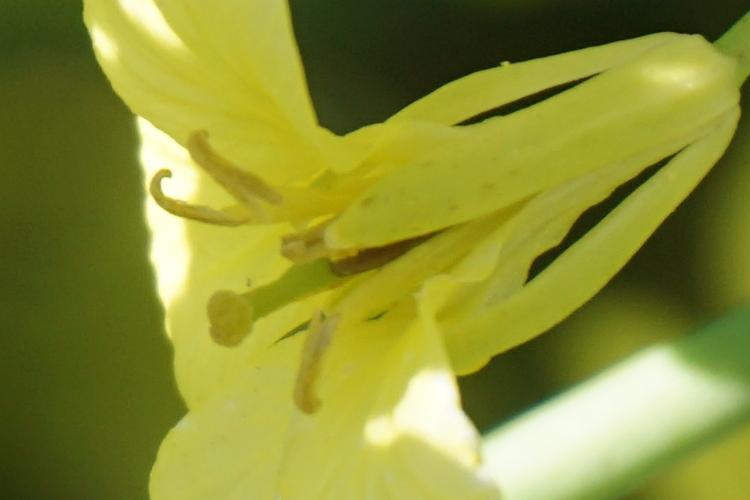yellow: (86, 2, 726, 495)
